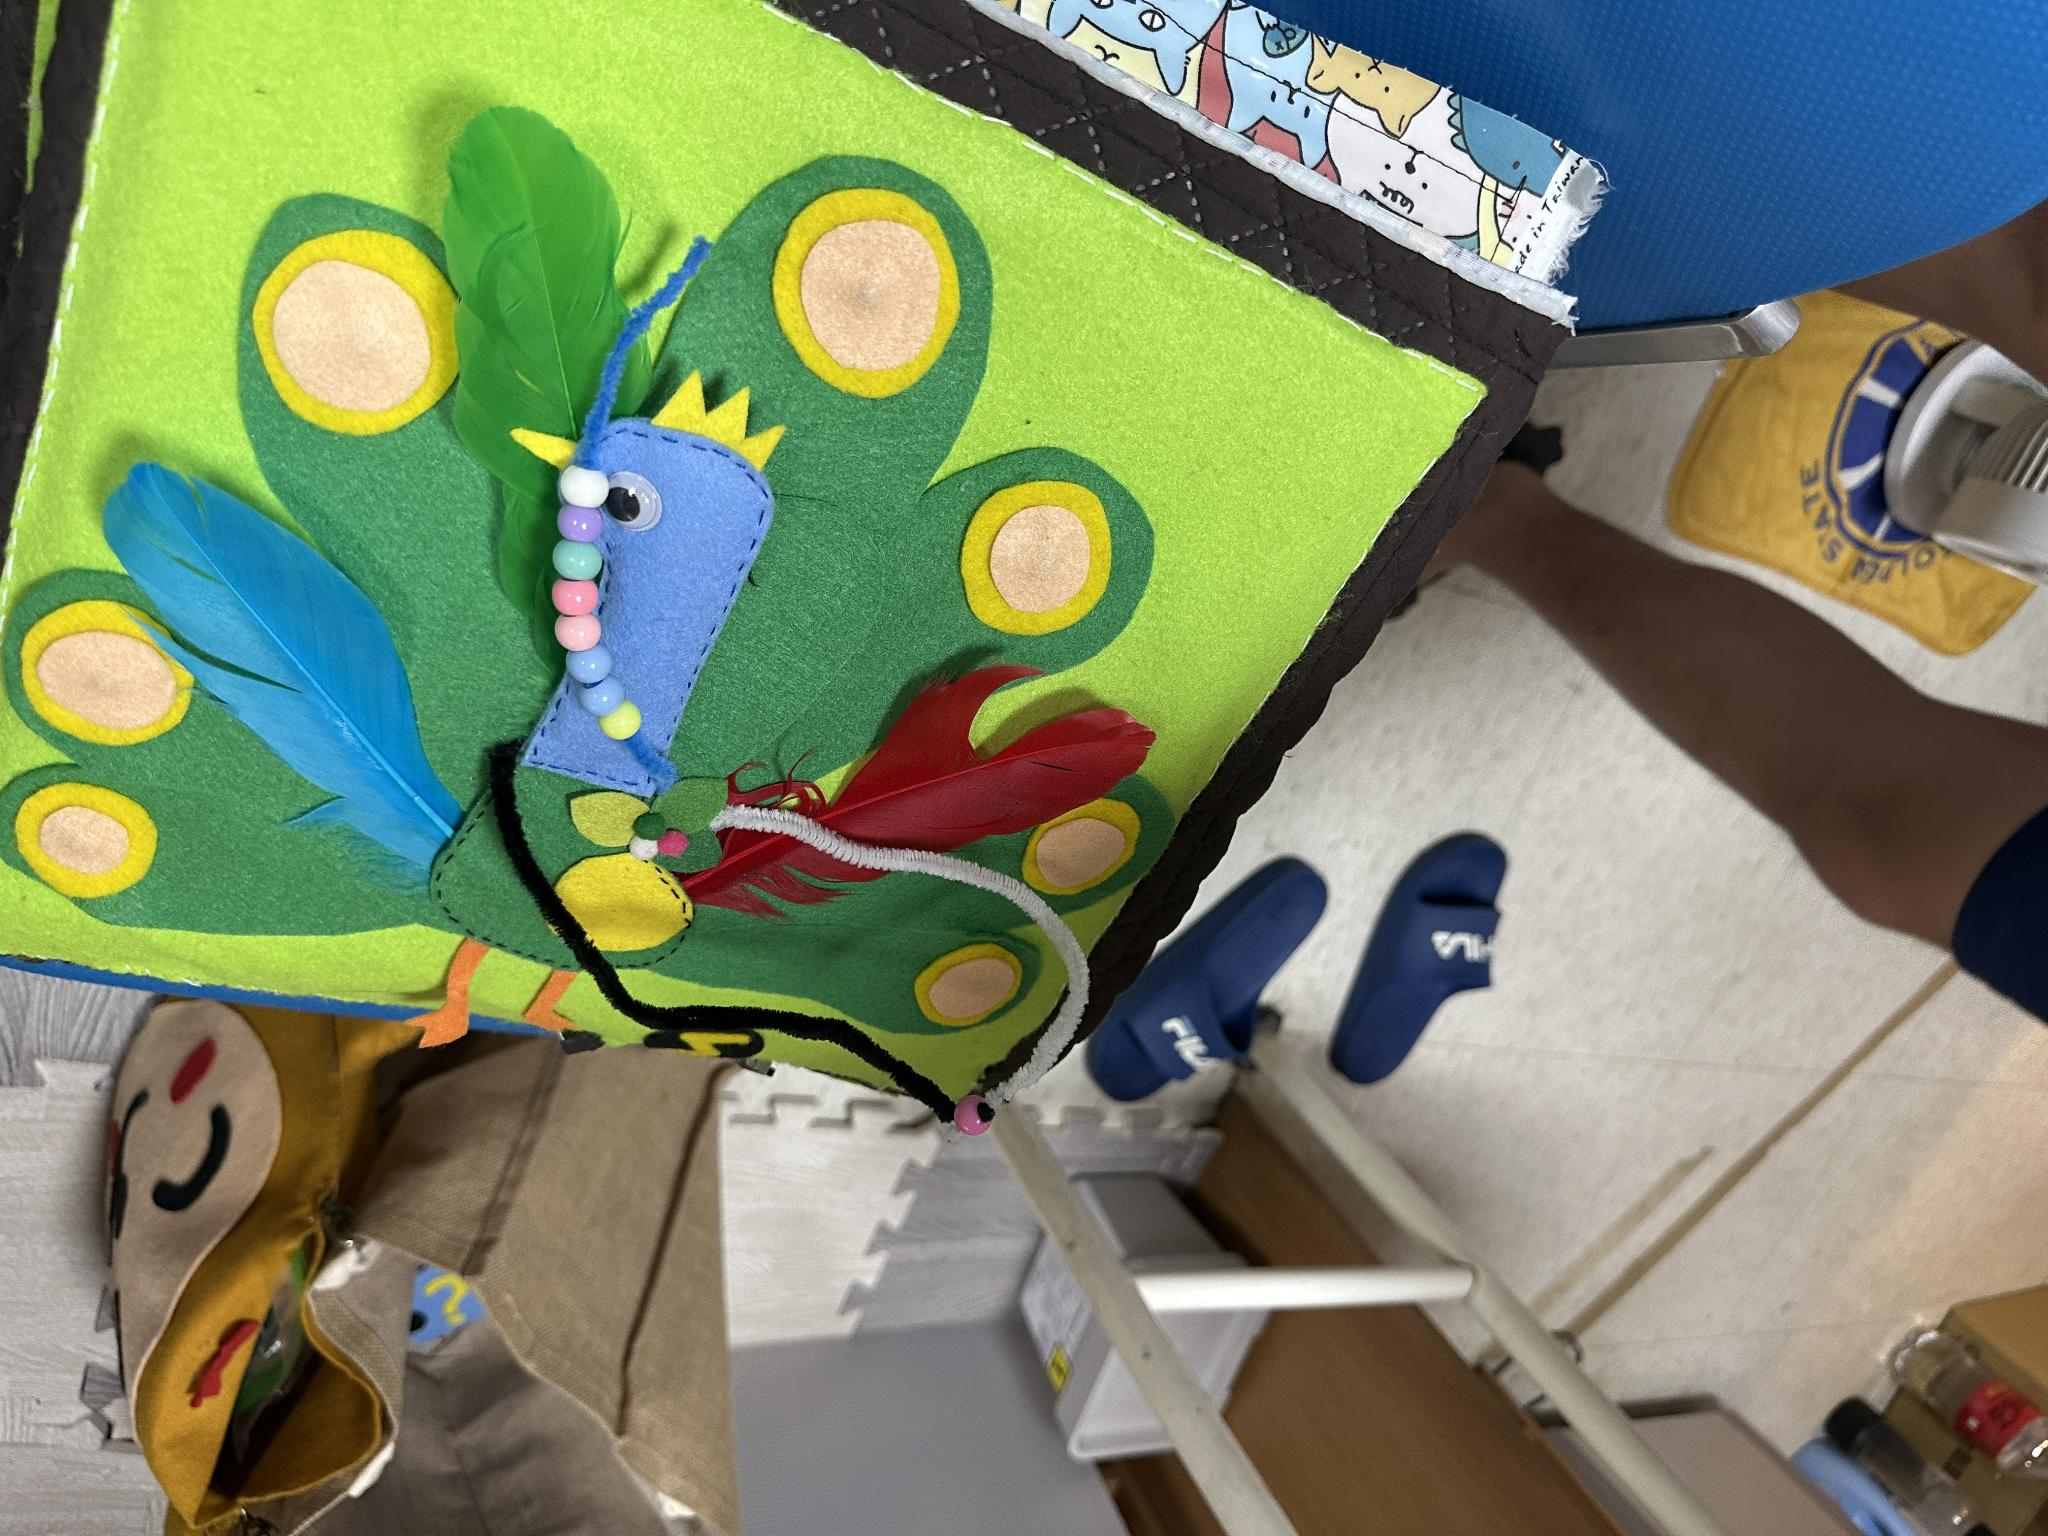bead: (540, 510, 627, 542), (555, 461, 611, 508), (547, 618, 621, 650), (543, 581, 613, 613), (600, 715, 664, 749), (553, 547, 616, 576), (556, 650, 618, 679), (572, 691, 635, 716)
